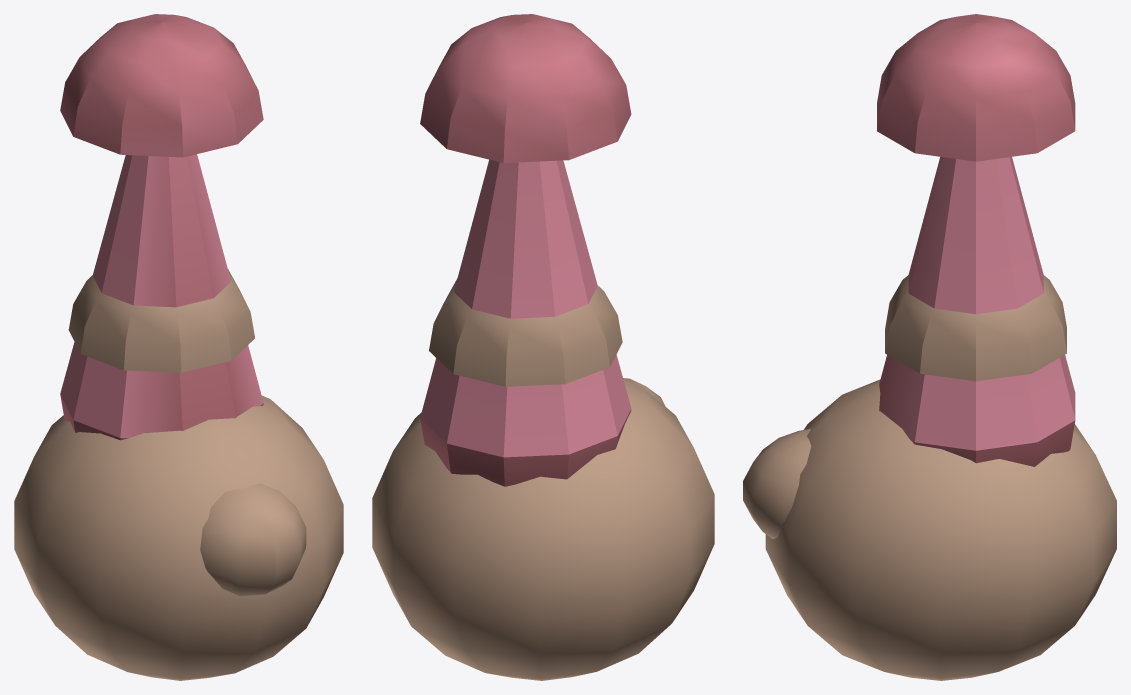
File: p-girl----armL.glb
The picture shows the model from 3 angles, left to right: view 1: azimuth 30°, elevation 25°; view 2: azimuth 150°, elevation 25°; view 3: azimuth 270°, elevation 25°; orthographic projection. The views are drawn at different scales.
Parts seen in each view (by area): view 1: player_p-girl----armL; view 2: player_p-girl----armL; view 3: player_p-girl----armL.
Part boxes in pixels (x1,y1,x2,y2): player_p-girl----armL: (14, 14, 343, 680); player_p-girl----armL: (372, 14, 714, 680); player_p-girl----armL: (743, 14, 1116, 680).
Bounding box in the file's own units: 0.1142 × 0.2444 × 0.1289.
